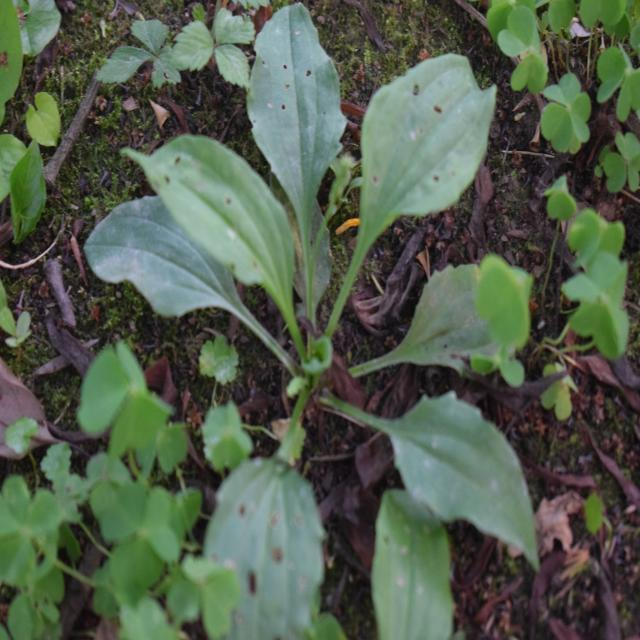plantain: (130, 46, 537, 593)
